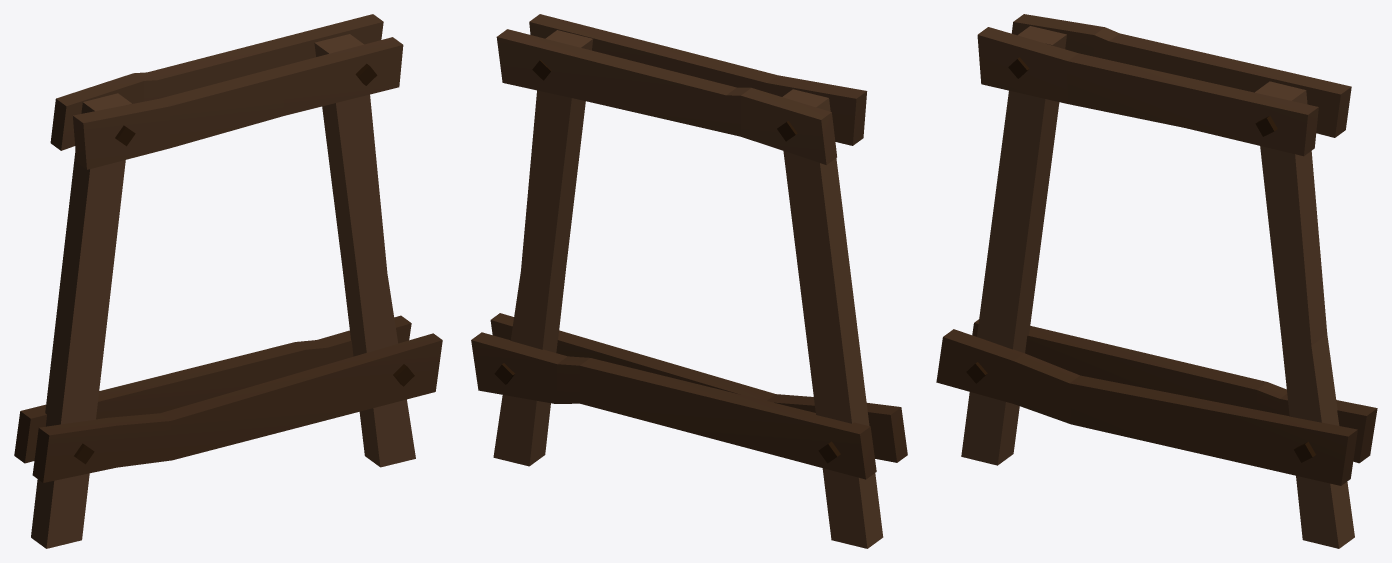
The model's file is Beam Exterior 1.glb.
The picture shows the model from 3 angles, left to right: view 1: azimuth 30°, elevation 25°; view 2: azimuth 150°, elevation 25°; view 3: azimuth 330°, elevation 25°; orthographic projection. The views are drawn at different scales.
Parts seen in each view (by area): view 1: Beam Exterior 1; view 2: Beam Exterior 1; view 3: Beam Exterior 1.
Part boxes in pixels (left/top/right/bottom): Beam Exterior 1: left=14, top=14, right=442, bottom=548; Beam Exterior 1: left=471, top=14, right=907, bottom=548; Beam Exterior 1: left=936, top=14, right=1377, bottom=548.
Size of what is drawn, in the model's own units: 3.97 by 4.05 by 0.6949.
Materials: 1 (1 with a texture image).
